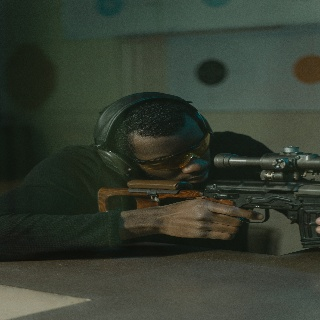rifle: (97, 146, 320, 249)
